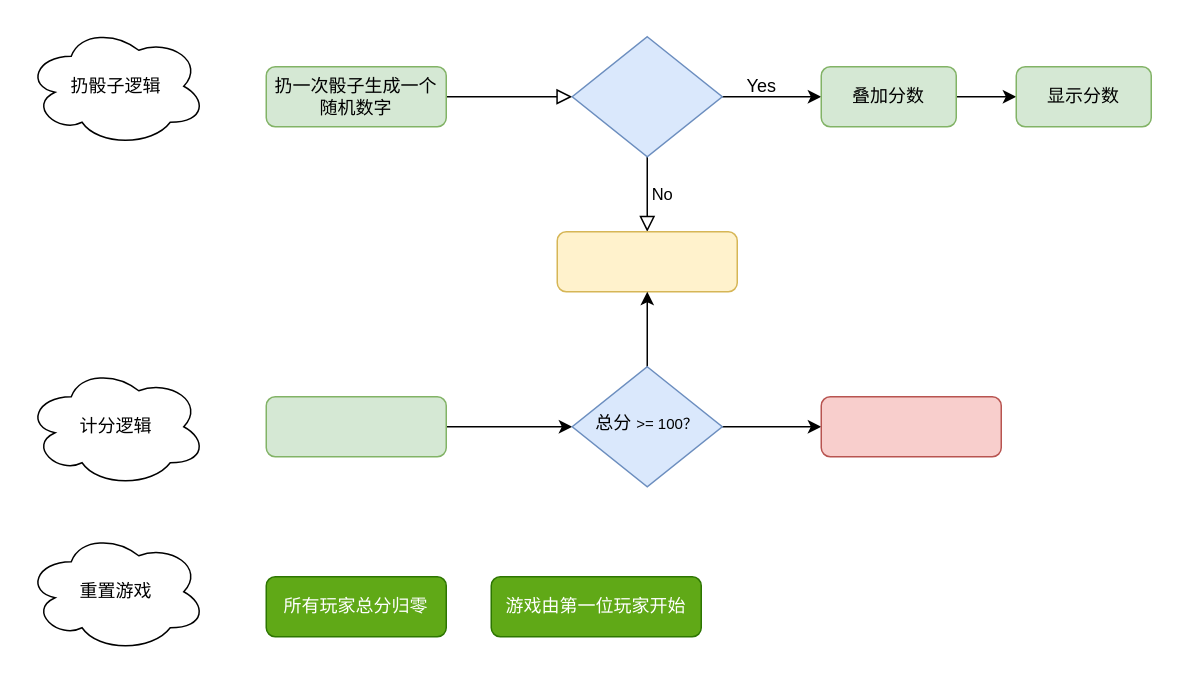
The diagram is 1178 pixels wide and 678 high, and some of its shapes have lost their labels. Here are the shapes that lost their labels. From the top down, the centre of each, then its label:
At (x=646, y=96): "是否=1？".
At (x=646, y=261): "转换玩家".
At (x=355, y=426): "叠加本轮成绩到总分".
At (x=910, y=426): "本轮玩家获胜🏅".
